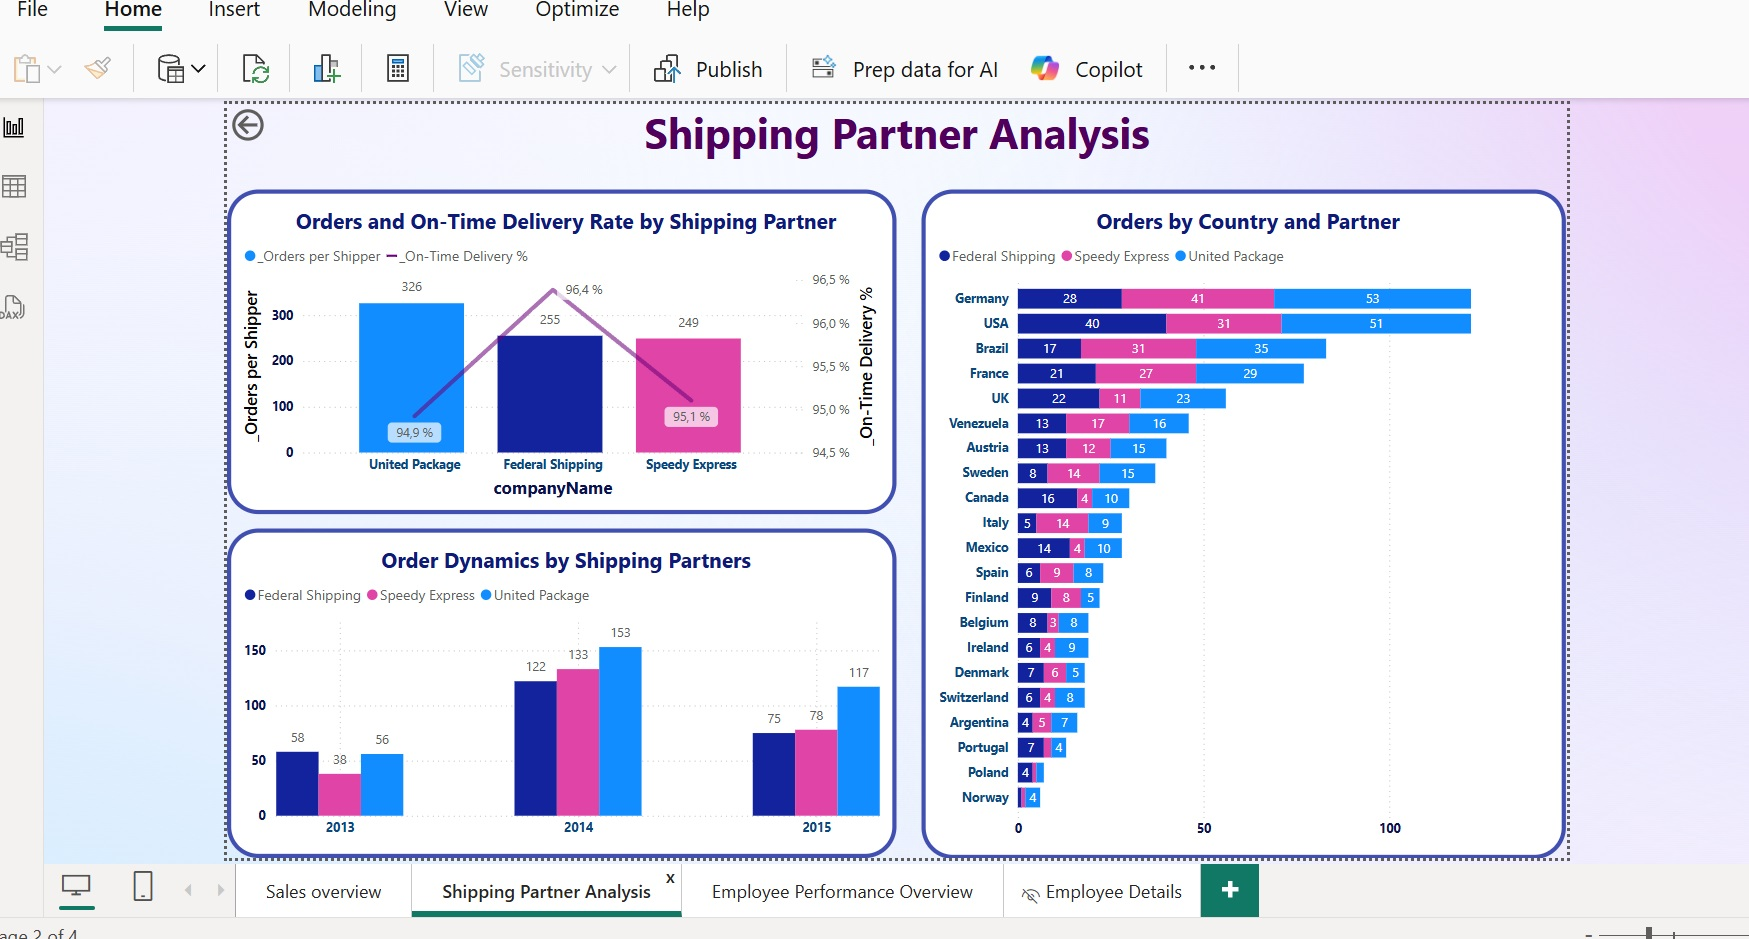

This screenshot's page, from the dashboard's own definition file:
{"tool":"powerbi","page":{"name":"Shipping Partner Analysis","canvas":[1280,720],"ordinal":1},"visuals":[{"type":"lineStackedColumnComboChart","title":"Orders and On-Time Delivery Rate by Shipping Partner","fields":{"Y":["_measures._Orders per Shipper"],"Category":["shippers.companyName"],"Y2":["_measures._On-Time Delivery %"]},"box":[0,81.1,639.4,310.2],"z":0},{"type":"actionButton","box":[0,0,100,40],"z":4000},{"type":"textbox","title":"Shipping Partner Analysis","box":[0,0,1279.4,58.6],"z":5000},{"type":"clusteredColumnChart","title":"Order Dynamics by Shipping Partners","fields":{"Category":["DimDate.Date.Variation.Date Hierarchy.Year"],"Y":["_measures._Orders per Shipper"],"Series":["shippers.companyName"]},"box":[0,405.6,639.4,314.9],"z":7000},{"type":"barChart","title":"Orders by Country and Partner","fields":{"Category":["customers.country"],"Y":["_measures._Orders per Shipper"],"Series":["shippers.companyName"]},"box":[663.3,81.1,615.6,639.4],"z":9000}]}

Visuals, with their boxes on the page's 1280x720 design canvas (x1, y1, x2, y2). These are canvas units, not pixel positions in the 1749x939 screenshot, which may show the page scaled, cropped or inside an application window:
"Orders and On-Time Delivery Rate by Shipping Partner" lineStackedColumnComboChart: <region>0, 81, 639, 391</region>
actionButton: <region>0, 0, 100, 40</region>
"Shipping Partner Analysis" textbox: <region>0, 0, 1279, 59</region>
"Order Dynamics by Shipping Partners" clusteredColumnChart: <region>0, 406, 639, 720</region>
"Orders by Country and Partner" barChart: <region>663, 81, 1279, 720</region>
